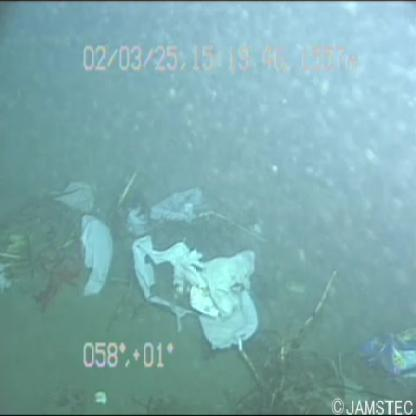Rác: (122, 220, 262, 358), (58, 193, 122, 293)
